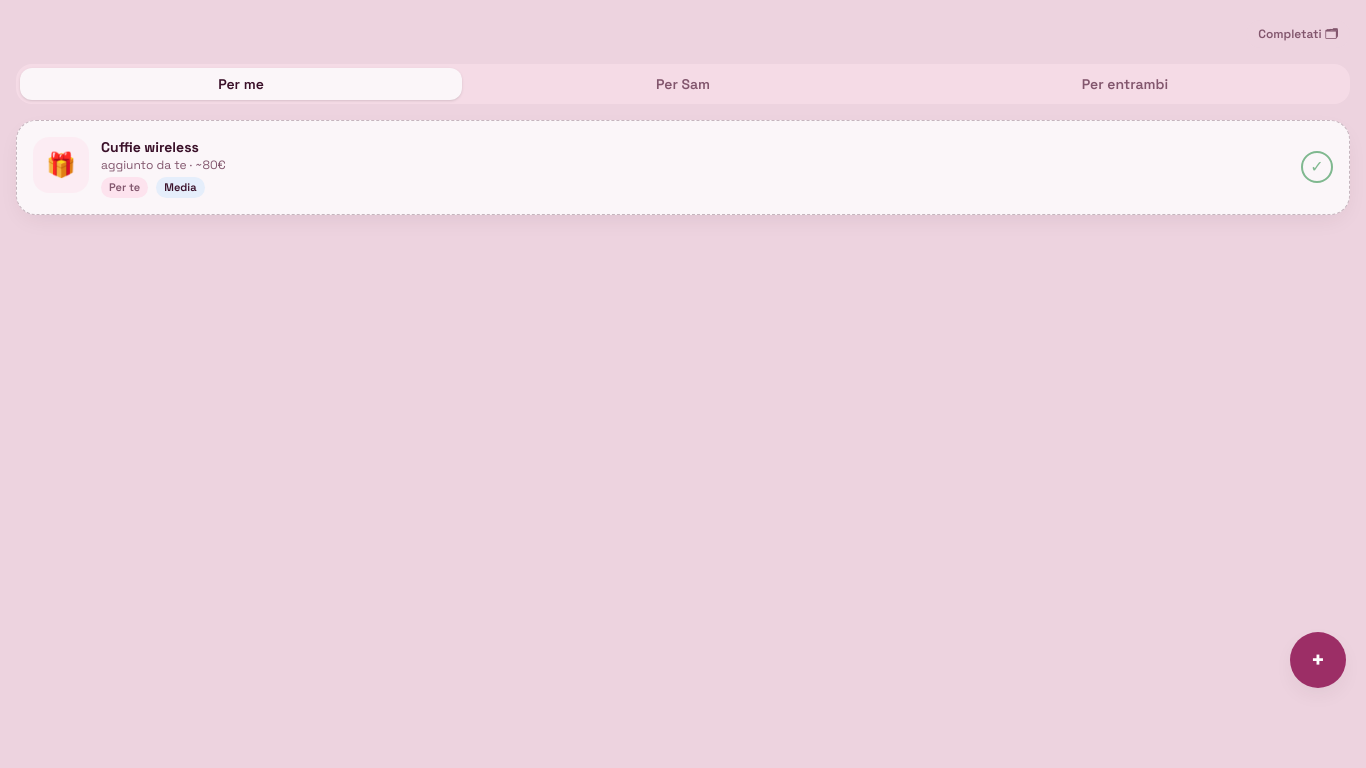
Scenario: WishlistView — completamento ottimistico › rimuove subito l'item dalla vista attivi al click su 'Segna come completato' (ottimistico), poi conferma la chiamata reale
Expected: the text "Cuffie wireless" is shown, [101,138,199,156]
Step 1. Click the button named "Segna come completato" → (1317, 167), box [1301,151,1333,183]
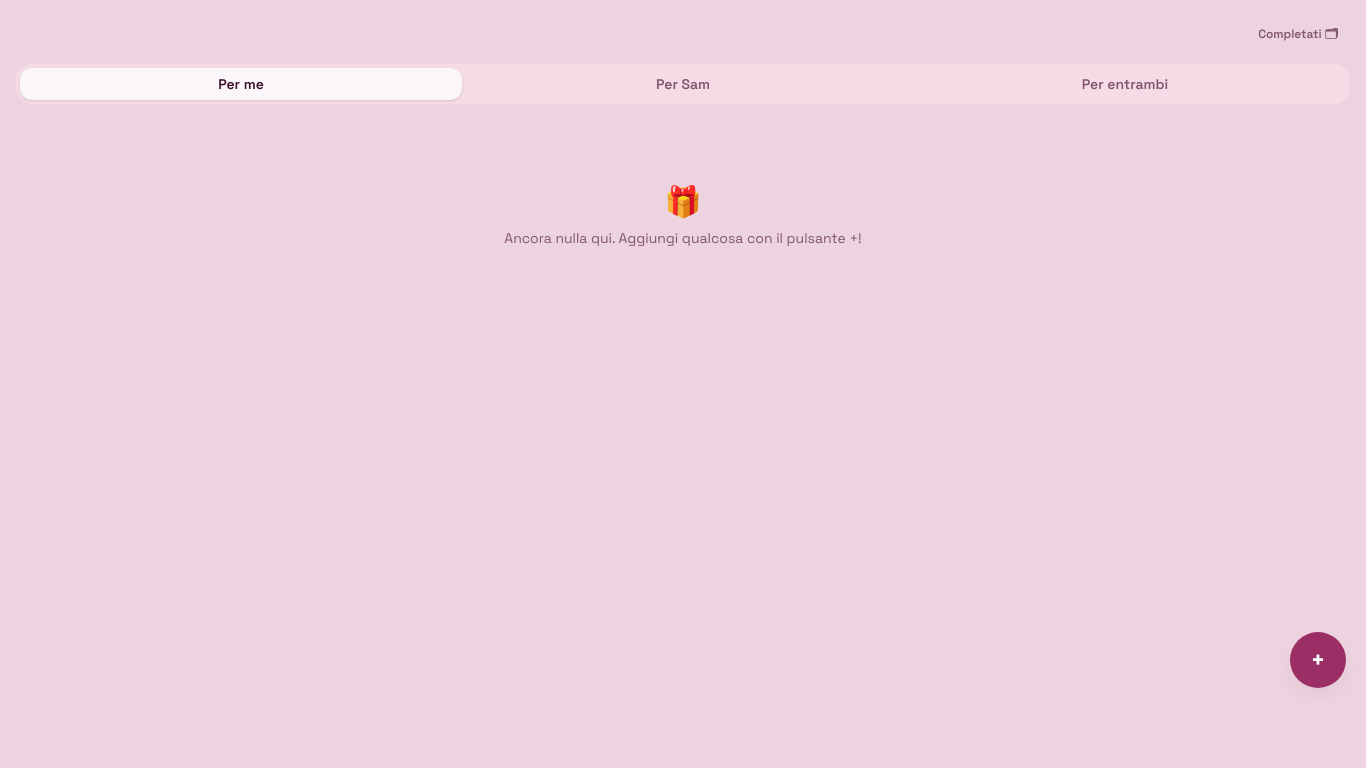
Now the text "Cuffie wireless" is gone
